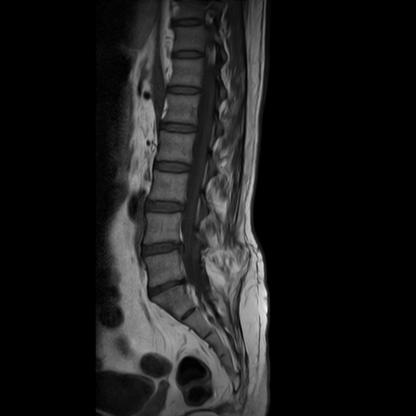Disc Bulgerotation: (139, 239, 184, 259), (146, 280, 189, 297)
